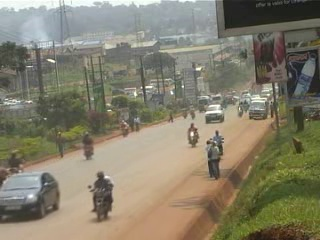Car: (0, 168, 64, 222)
Motorcycle: (84, 181, 115, 224), (82, 140, 96, 161), (186, 127, 197, 150), (8, 160, 24, 174), (120, 125, 129, 140), (236, 106, 244, 120), (179, 110, 188, 120), (190, 111, 198, 121)
